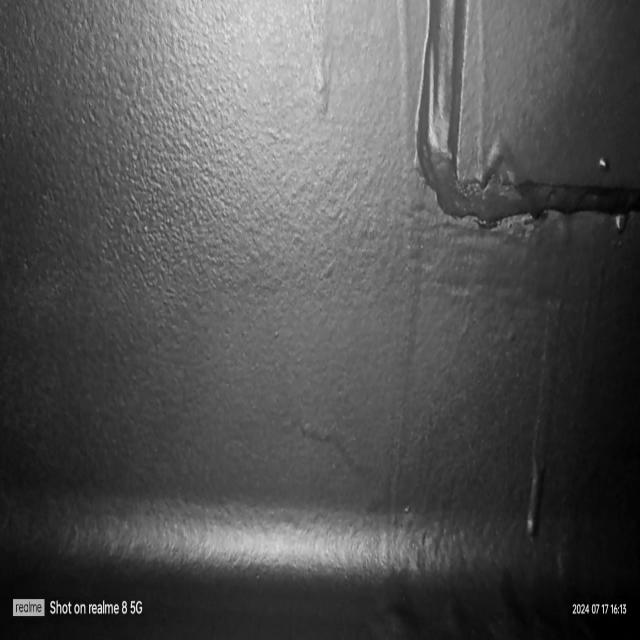paint drips: (518, 215, 574, 552), (593, 149, 617, 181)
